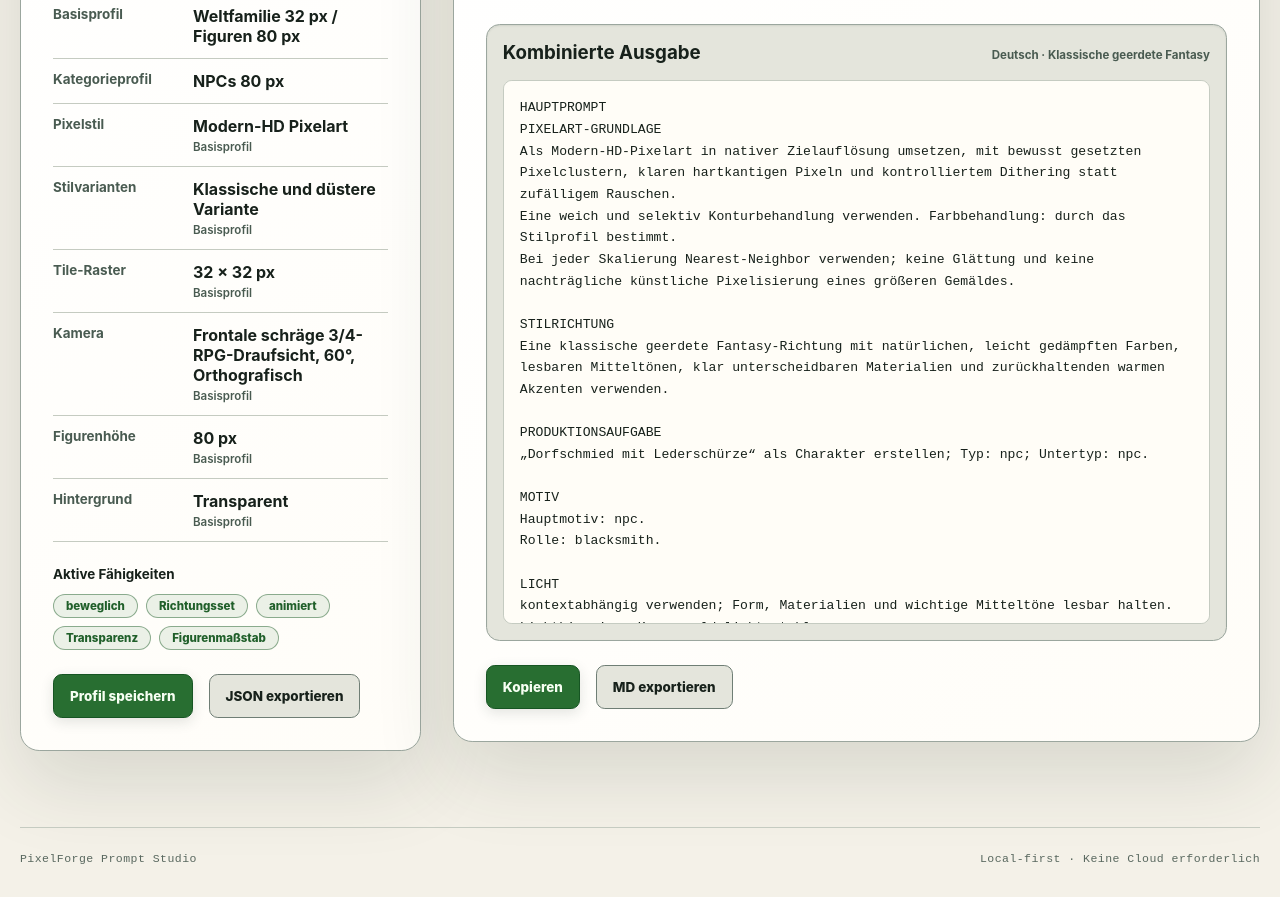
Scenario: ReviewOutputWorkspace › reports a rejected injected clipboard operation without changing output
The width and height of the screenshot is (1280, 897).
(page scrolled)
Step 1. Click the button "Kopieren" → (533, 687), box [486,665,580,709]
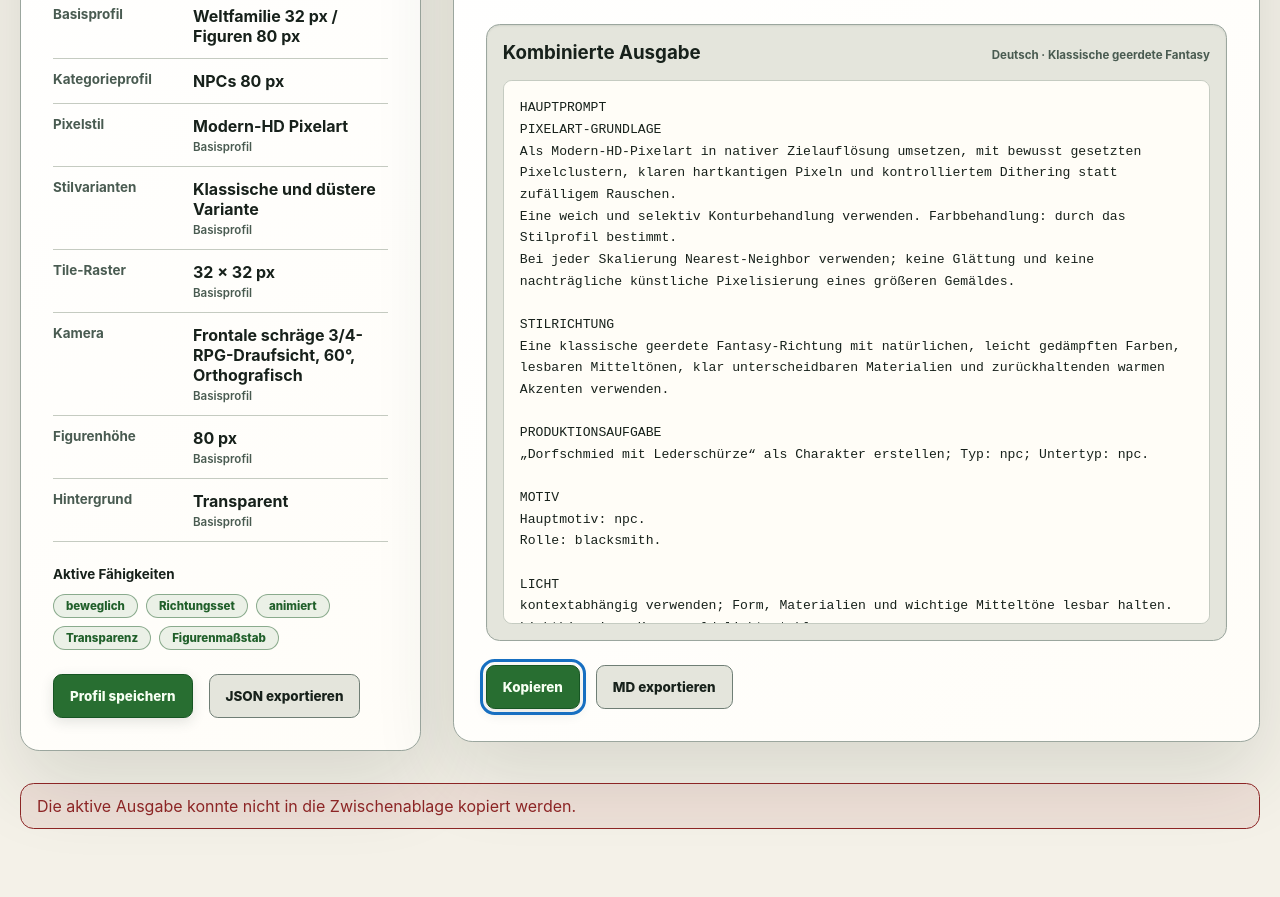
Expected: the message shows "konnte nicht in die Zwischenablage kopiert werden", [37,796,576,816]
